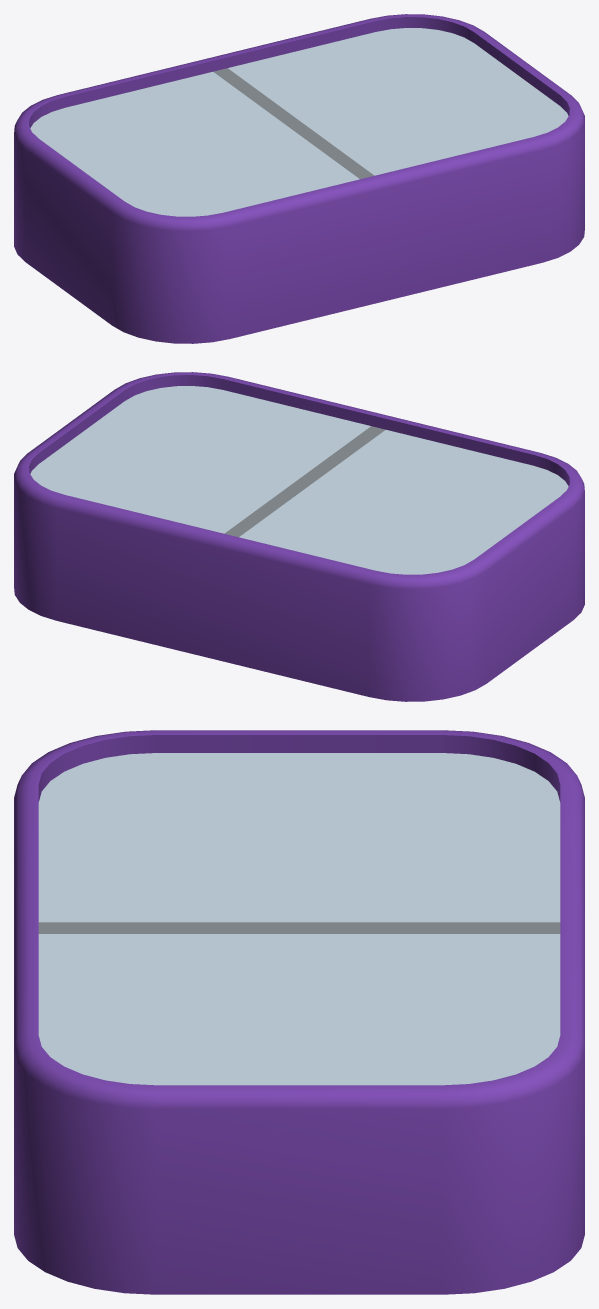
Rendered from Arena.fbx.
3 renders of one model, top to bottom at view 1: azimuth 30°, elevation 25°; view 2: azimuth 150°, elevation 25°; view 3: azimuth 270°, elevation 25°, orthographic. The views are drawn at different scales.
Visible parts, largest first — view 1: Arena; view 2: Arena; view 3: Arena.
Part boxes in pixels (box(x1,y1,x2,y2)): Arena: box(14, 14, 584, 343); Arena: box(14, 372, 584, 701); Arena: box(14, 730, 584, 1294).
Size of the model in its own units: 8 by 2 by 5.2.
